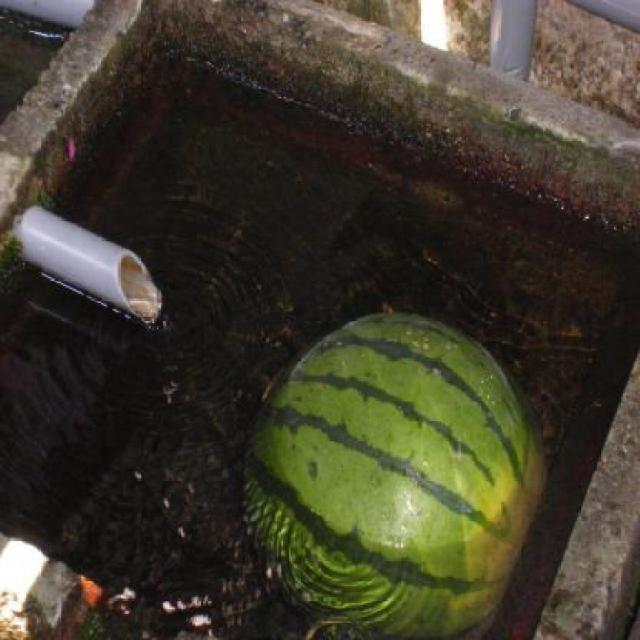Watermelon: (243, 308, 548, 640)
